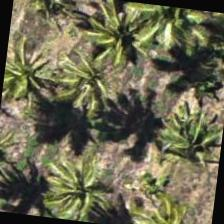Kelapa_Sawit: (42, 36, 142, 136), (67, 0, 167, 85), (28, 140, 127, 223), (0, 37, 71, 135), (124, 1, 220, 65)
